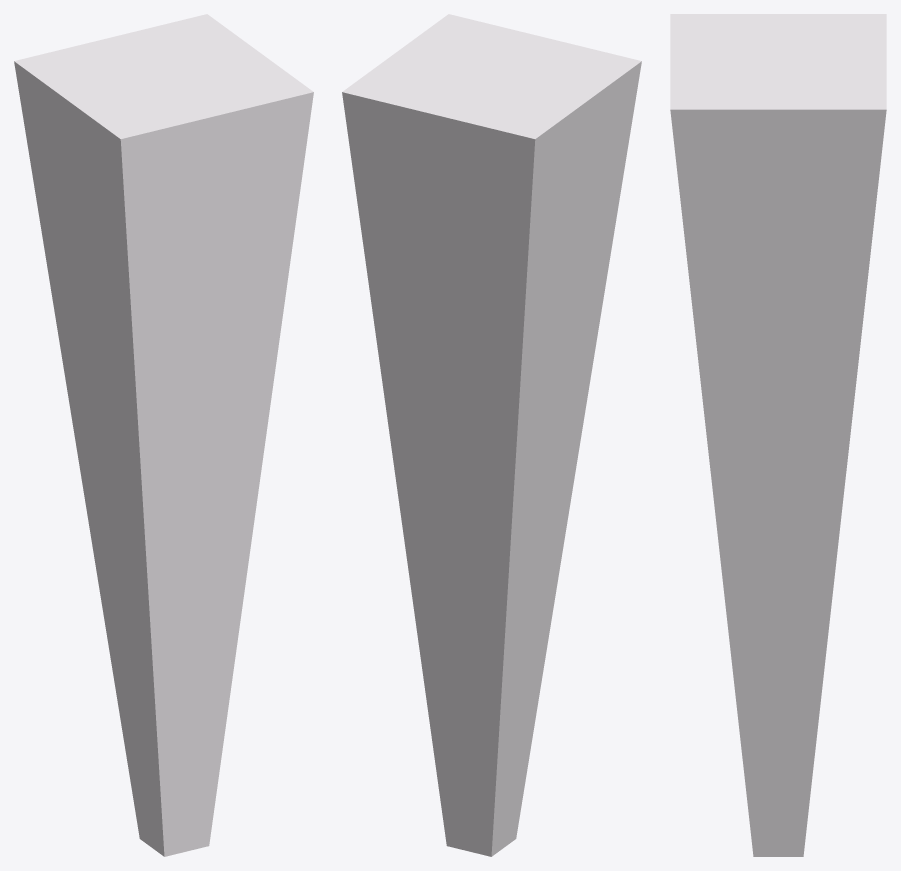
Rendered from housesmoke.obj.
3 renders of one model, left to right at view 1: azimuth 30°, elevation 25°; view 2: azimuth 150°, elevation 25°; view 3: azimuth 270°, elevation 25°, orthographic.
Visible parts, largest first — view 1: housesmoke; view 2: housesmoke; view 3: housesmoke.
Part boxes in pixels (box(x1,y1,x2,y2)): housesmoke: box(14, 14, 313, 856); housesmoke: box(342, 14, 641, 856); housesmoke: box(670, 14, 886, 856).
Bounding box in the file's own units: 2.4 × 9.11 × 2.29.
1 material, 1 textured.
